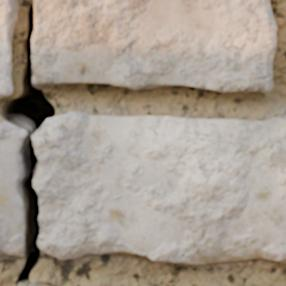brick: (32, 0, 275, 91), (0, 0, 18, 96), (17, 282, 40, 285)
broken_brick: (33, 111, 285, 264), (0, 121, 24, 256)
crack: (0, 2, 56, 283)
